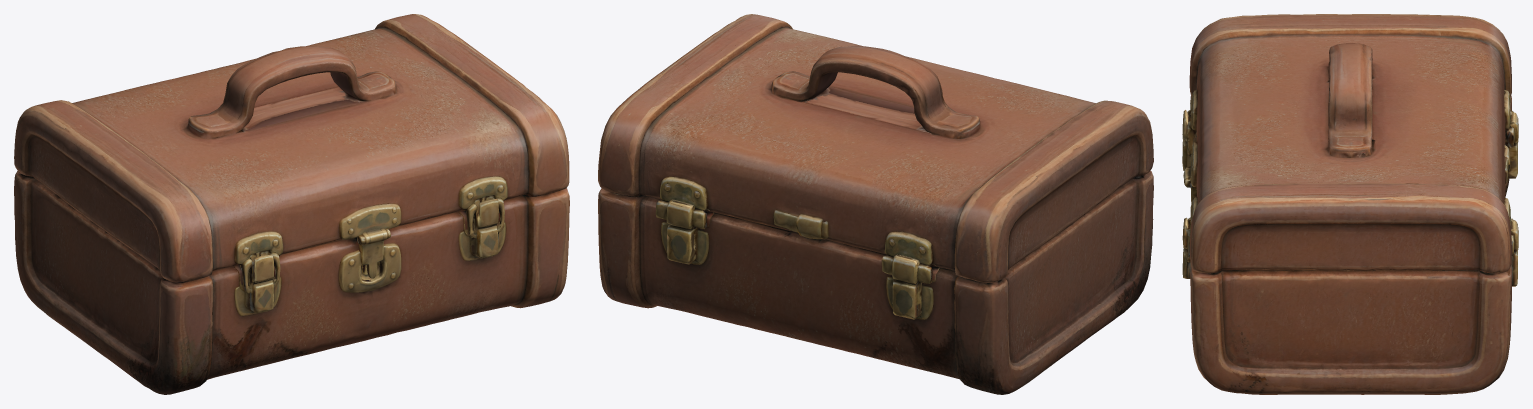
File: Prop_Suitcase.fbx
3 renders of one model, left to right at view 1: azimuth 30°, elevation 25°; view 2: azimuth 150°, elevation 25°; view 3: azimuth 270°, elevation 25°, orthographic.
Parts seen in each view (by area): view 1: texture_mapping; view 2: texture_mapping; view 3: texture_mapping.
Part boxes in pixels (box(x1,y1,x2,y2)): texture_mapping: box(14, 14, 569, 394); texture_mapping: box(598, 14, 1153, 394); texture_mapping: box(1182, 14, 1518, 394).
Bounding box in the file's own units: 1 × 0.7384 × 0.599.
Materials: 1 (1 with a texture image).
